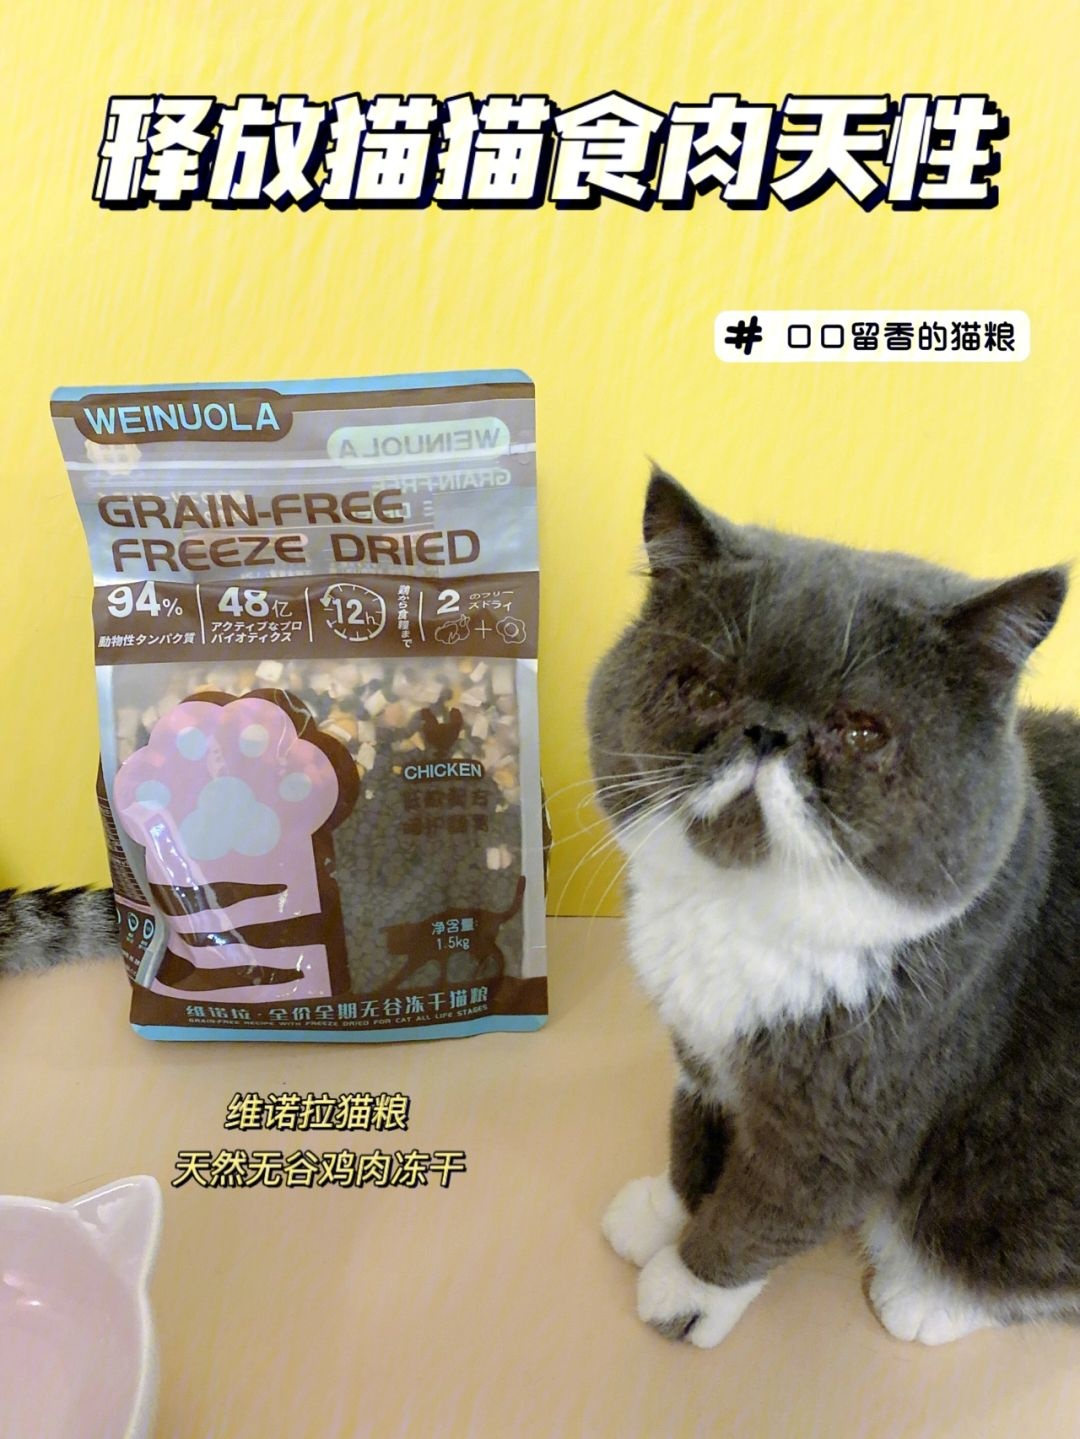cat: (577, 460, 1080, 1349)
